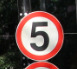speed_limit_5: (15, 11, 64, 62)
